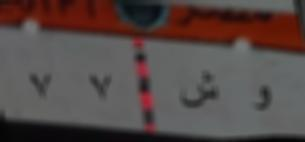7: (88, 66, 115, 102), (29, 67, 53, 104)
sheen: (176, 68, 222, 121)
waw: (248, 79, 275, 122)
